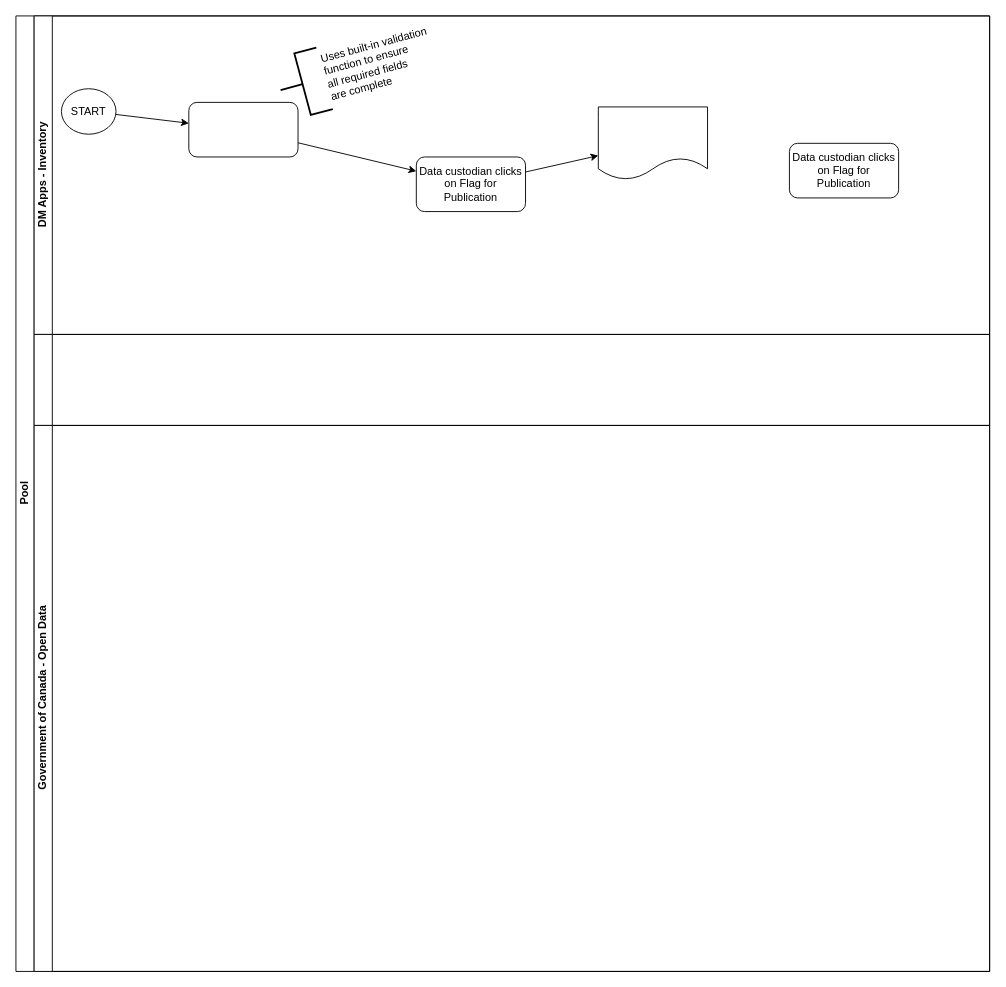
The diagram is 1006 pixels wide and 987 high, and some of its shapes have lost their labels. The shapes that lost their labels are listed below. From the top down, each one's centre as x and y in pixels, then its label:
point (243, 129): Data custodian creates metadata record
point (652, 143): Data stewards will receive notification
point (511, 379): Enterprise Data Hub (EDH)
